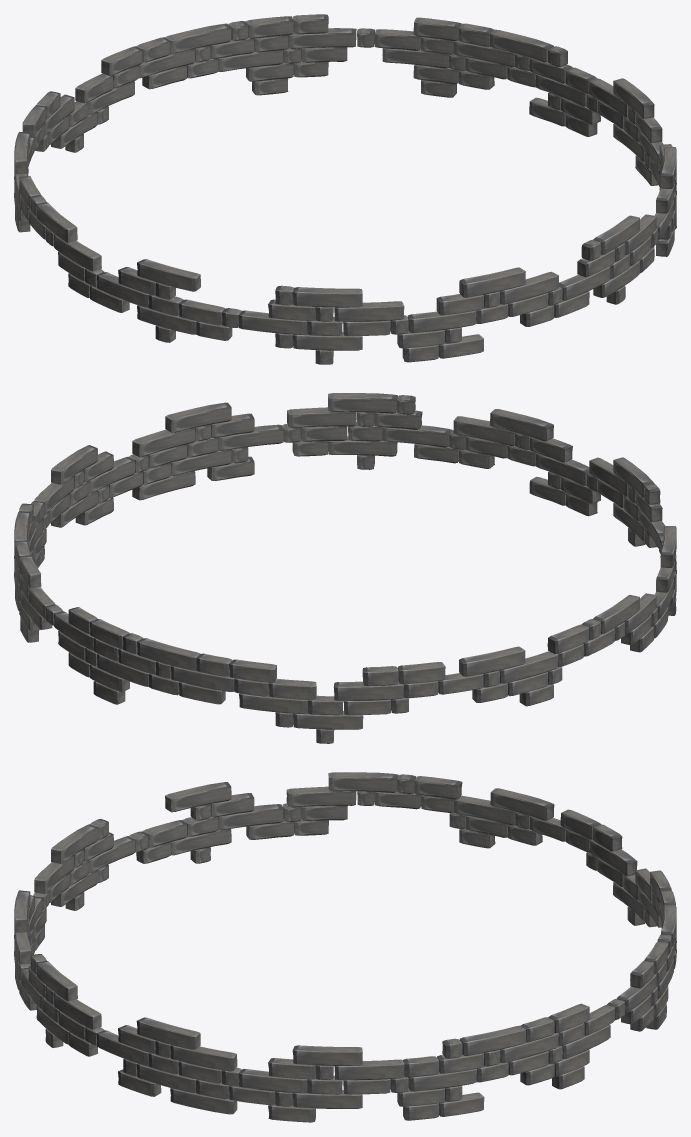
The model's file is Top_Tower_Wall_End.fbx.
3 views of the same model, one above another, from view 1: azimuth 30°, elevation 25°; view 2: azimuth 150°, elevation 25°; view 3: azimuth 270°, elevation 25° (orthographic).
Parts seen in each view (by area): view 1: Top_Tower_Wall_End; view 2: Top_Tower_Wall_End; view 3: Top_Tower_Wall_End.
Part boxes in pixels (x1=…): Top_Tower_Wall_End: x1=14, y1=14, x2=676, y2=364; Top_Tower_Wall_End: x1=14, y1=393, x2=676, y2=743; Top_Tower_Wall_End: x1=14, y1=772, x2=676, y2=1122.
Size of the model in its own units: 4340 by 523 by 4340.
